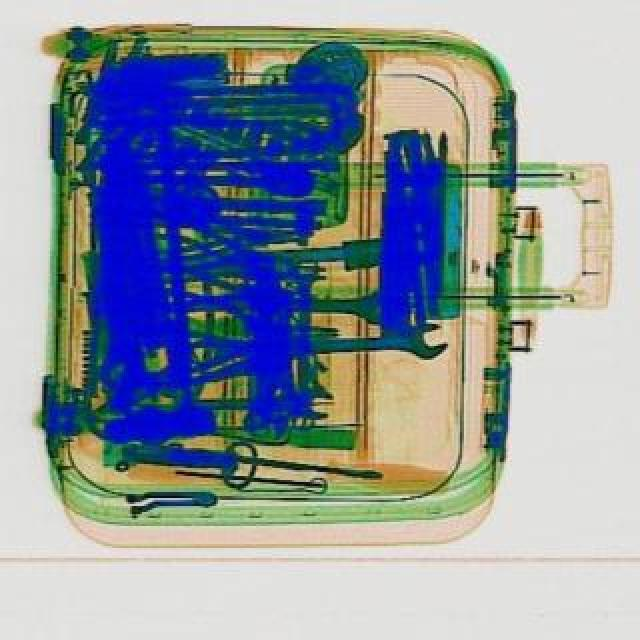scissors: (312, 326, 452, 368), (228, 386, 336, 422)
